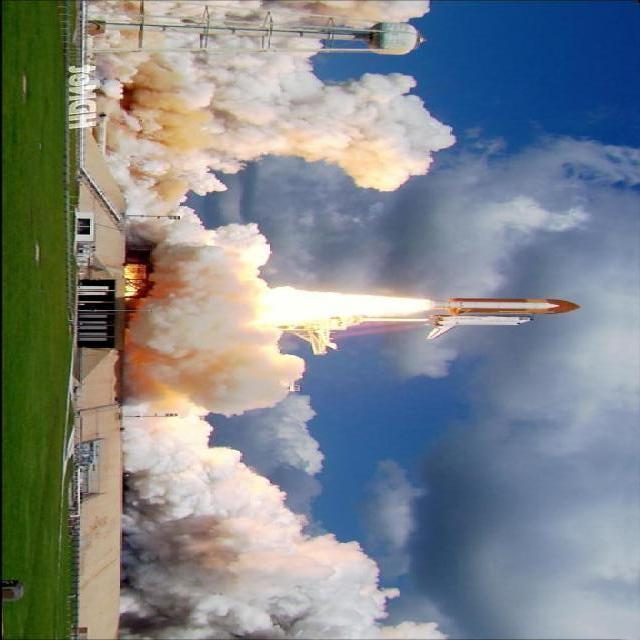missile: (428, 292, 582, 346)
